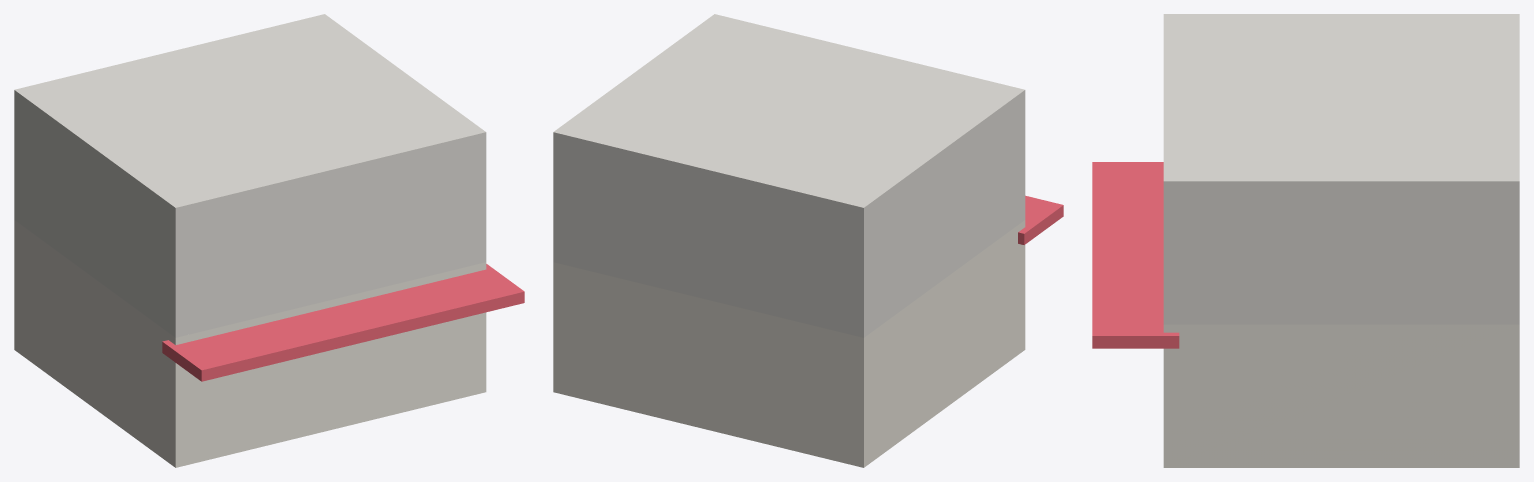
Rendered from ruko.glb.
The picture shows the model from 3 angles, left to right: view 1: azimuth 30°, elevation 25°; view 2: azimuth 150°, elevation 25°; view 3: azimuth 270°, elevation 25°; orthographic projection. The views are drawn at different scales.
Visible parts, largest first — view 1: upper_floor, ground_floor, awning; view 2: upper_floor, ground_floor, awning; view 3: upper_floor, ground_floor, awning.
Part boxes in pixels (bbox=[...]): upper_floor: bbox=[14, 14, 486, 337]; ground_floor: bbox=[14, 220, 486, 467]; awning: bbox=[162, 264, 524, 381]; upper_floor: bbox=[553, 14, 1025, 337]; ground_floor: bbox=[553, 220, 1025, 467]; awning: bbox=[1018, 195, 1063, 244]; upper_floor: bbox=[1163, 14, 1519, 324]; ground_floor: bbox=[1163, 324, 1519, 467]; awning: bbox=[1092, 162, 1179, 348].
Size of the model in its own units: 10.4 by 8 by 10.8.
